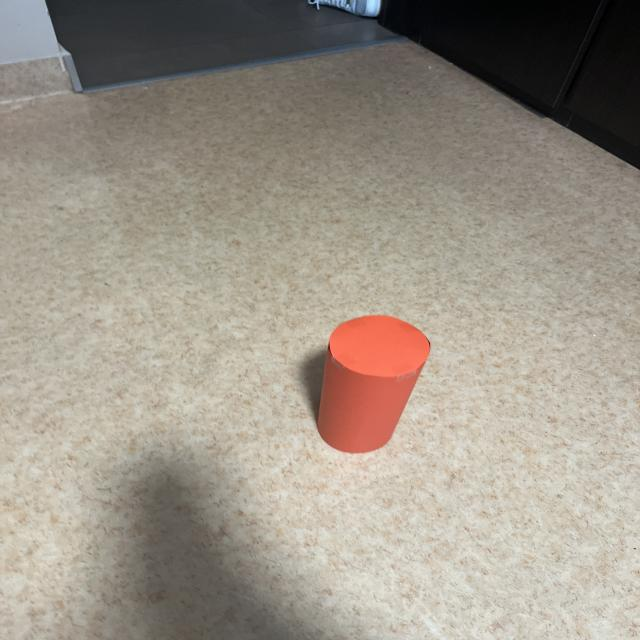przeszkoda: (318, 315, 429, 453)
